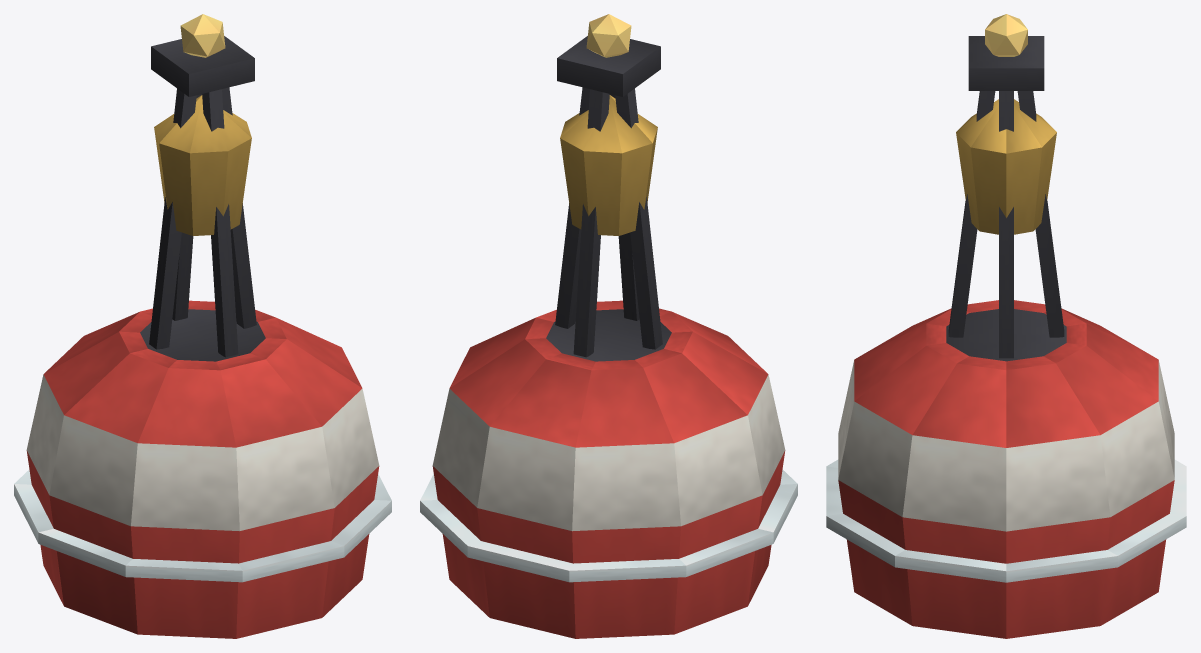
The model's file is water_buoy_01.glb.
The picture shows the model from 3 angles, left to right: view 1: azimuth 30°, elevation 25°; view 2: azimuth 150°, elevation 25°; view 3: azimuth 270°, elevation 25°; orthographic projection.
Parts seen in each view (by area): view 1: water_buoy_01; view 2: water_buoy_01; view 3: water_buoy_01.
Boxes of the visible parts, bbox=[...] form: water_buoy_01: bbox=[14, 14, 391, 638]; water_buoy_01: bbox=[420, 14, 797, 638]; water_buoy_01: bbox=[826, 14, 1186, 638].
Bounding box in the file's own units: 0.9 × 1.61 × 0.856.
1 material, 1 textured.
